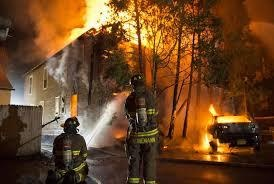fire: (197, 100, 226, 157)
